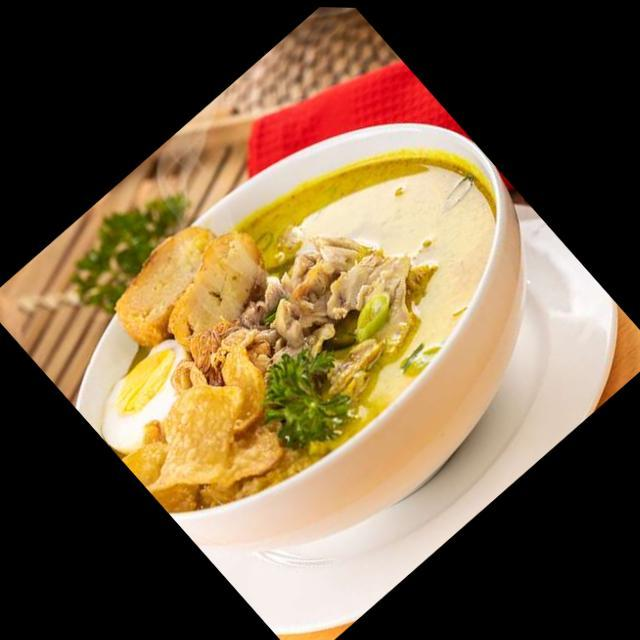Soto: (94, 130, 497, 510)
